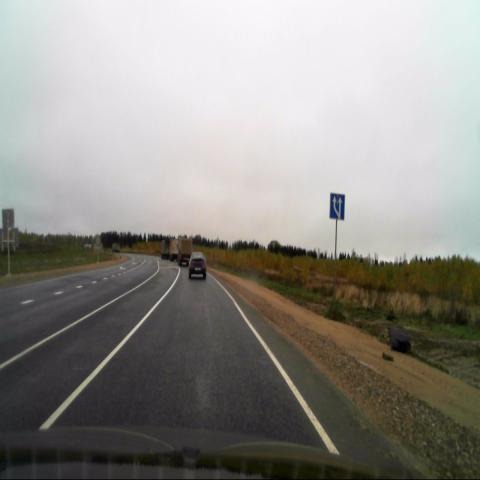5_15_3: (329, 192, 345, 220)
